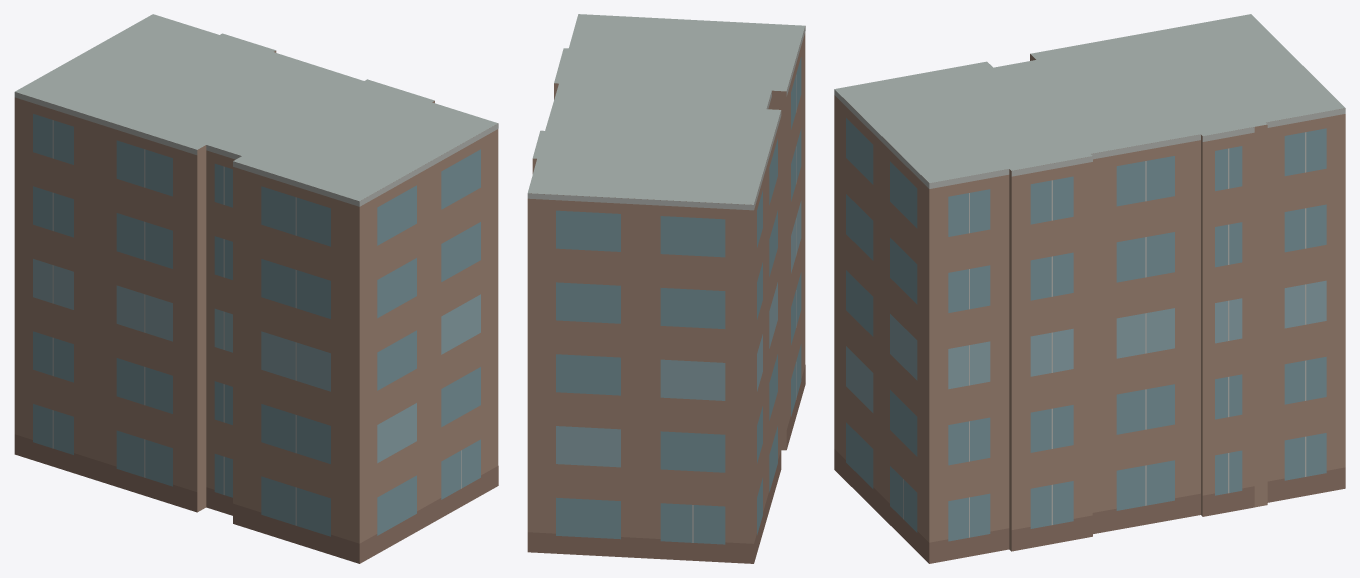
Rendered from survey-upis-32591320.glb.
The picture shows the model from 3 angles, left to right: view 1: azimuth 30°, elevation 25°; view 2: azimuth 150°, elevation 25°; view 3: azimuth 270°, elevation 25°; orthographic projection. The views are drawn at different scales.
Parts seen in each view (by area): view 1: survey-upis-32591320.tmp; view 2: survey-upis-32591320.tmp; view 3: survey-upis-32591320.tmp.
Boxes of the visible parts, <box> form: survey-upis-32591320.tmp: <box>14,14,498,563</box>; survey-upis-32591320.tmp: <box>527,14,805,563</box>; survey-upis-32591320.tmp: <box>834,14,1345,563</box>.
Size of the model in its own units: 15.26 by 15.98 by 19.47.
